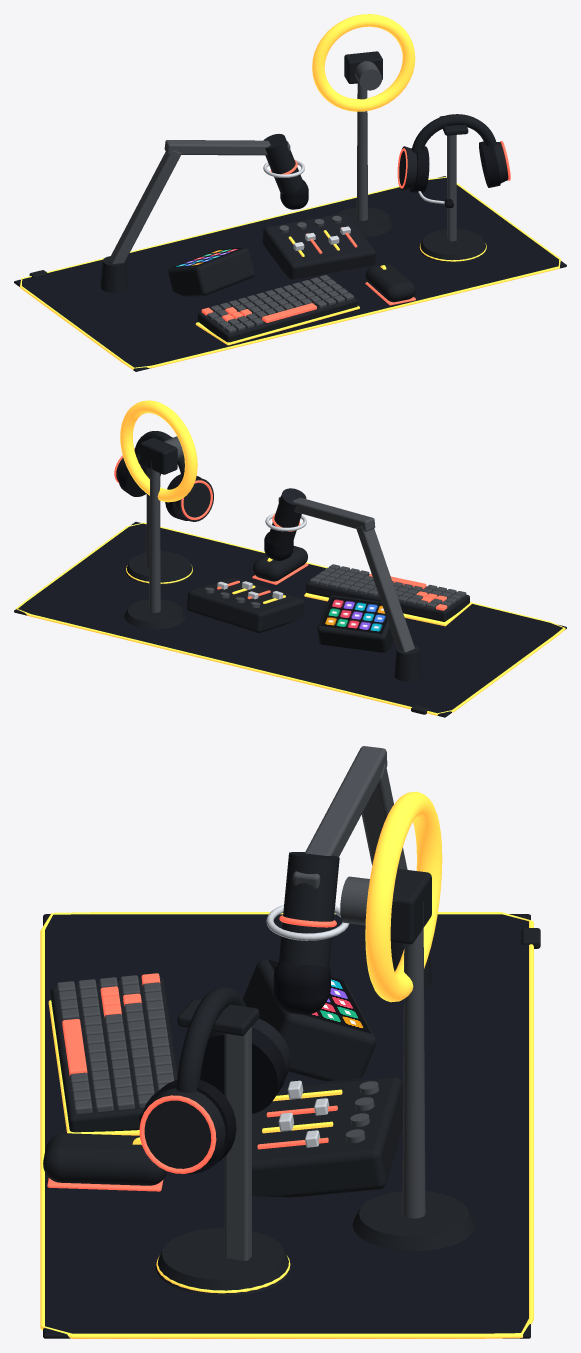
The model's file is atelier-gaming-loadout-streamer-ember.glb.
3 views of the same model, one above another, from view 1: azimuth 30°, elevation 25°; view 2: azimuth 150°, elevation 25°; view 3: azimuth 270°, elevation 25° (orthographic). The views are drawn at different scales.
Visible parts, largest first — view 1: object 1, object 13, object 28, object 2, object 11, object 5, object 101, object 31, object 6, object 26, object 8, object 98 (+11 smaller); view 2: object 1, object 13, object 28, object 2, object 5, Gaming macro key display, object 11, object 26, object 31, object 101, object 27, object 6 (+9 smaller); view 3: object 1, object 13, object 28, object 2, object 11, object 101, object 26, object 103, object 27, object 98, object 31, object 8 (+16 smaller).
Part boxes in pixels (x1,y1,x2,y2): object 1: (14,176,566,371); object 13: (262,213,375,279); object 28: (312,14,415,111); object 2: (19,177,560,369); object 11: (168,248,254,296); object 5: (109,150,181,263); object 101: (419,229,486,262); object 31: (197,279,357,342); object 6: (164,140,290,155); object 26: (356,83,368,220); object 8: (263,134,302,194); object 98: (365,264,415,302); object 1: (14,522,566,717); object 13: (187,577,304,633); object 28: (120,400,197,502); object 2: (15,522,565,715); object 5: (356,526,414,652); Gaming macro key display: (320,596,387,633); object 11: (317,595,393,652); object 26: (149,461,160,612); object 31: (306,574,469,621); object 101: (125,551,193,585); object 27: (124,599,185,629); object 6: (278,496,375,531); object 1: (43,914,530,1338); object 13: (252,1077,403,1197); object 28: (365,791,442,1002); object 2: (40,912,533,1338); object 11: (243,960,376,1080); object 101: (155,1228,291,1295); object 26: (402,901,425,1218); object 103: (224,1027,251,1260); object 27: (352,1191,475,1251); object 98: (43,1133,167,1185); object 31: (50,977,177,1132); object 8: (278,852,339,968).
Size of the model in its own units: 0.9452 by 0.4531 by 0.4716.
Materials: 8 (1 with a texture image).
